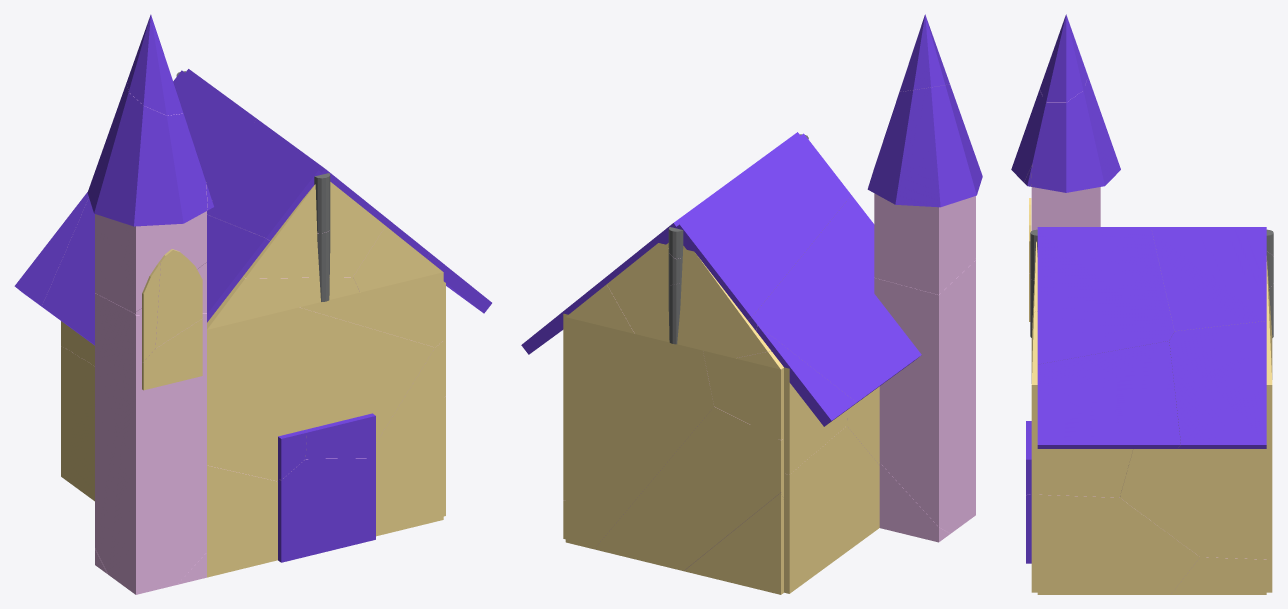
File: HouseB_Broken.fbx
3 views of the same model, side by side, from view 1: azimuth 30°, elevation 25°; view 2: azimuth 150°, elevation 25°; view 3: azimuth 270°, elevation 25° (orthographic). The views are drawn at different scales.
Visible parts, largest first — view 1: HouseB.008_cell.002, HouseB.013_cell, HouseB.018_cell, HouseB.011_cell, HouseB.013_cell.002, HouseB.021_cell.003, HouseB.018_cell.002, HouseB.019_cell.003, HouseB.013_cell.003, HouseB.008_cell.001, HouseB.013_cell.001, HouseB.015_cell.001 (+14 smaller); view 2: HouseB.016_cell.002, HouseB.008_cell.002, HouseB.018_cell.002, HouseB.016_cell.003, HouseB.018_cell, HouseB.015_cell.001, HouseB.011_cell, HouseB.020_cell.001, HouseB.008_cell.001, HouseB.016_cell.001, HouseB.016_cell, HouseB.015_cell (+8 smaller); view 3: HouseB.017_cell, HouseB.017_cell.003, HouseB.014_cell.001, HouseB.014_cell.003, HouseB.017_cell.002, HouseB.017_cell.001, HouseB.011_cell, HouseB.014_cell.002, HouseB.014_cell, HouseB.008_cell.001, HouseB.011_cell.002, HouseB.016_cell.002 (+7 smaller).
Boxes of the visible parts, x1=… form: HouseB.008_cell.002: x1=95, y1=293, x2=206, y2=594; HouseB.013_cell: x1=207, y1=307, x2=434, y2=481; HouseB.018_cell: x1=173, y1=70, x2=322, y2=240; HouseB.011_cell: x1=87, y1=82, x2=209, y2=226; HouseB.013_cell.002: x1=376, y1=341, x2=443, y2=536; HouseB.021_cell.003: x1=278, y1=458, x2=375, y2=562; HouseB.018_cell.002: x1=42, y1=198, x2=269, y2=345; HouseB.019_cell.003: x1=243, y1=182, x2=385, y2=278; HouseB.013_cell.003: x1=207, y1=465, x2=277, y2=577; HouseB.008_cell.001: x1=95, y1=211, x2=206, y2=313; HouseB.013_cell.001: x1=300, y1=272, x2=443, y2=347; HouseB.015_cell.001: x1=61, y1=346, x2=94, y2=501; HouseB.016_cell.002: x1=565, y1=317, x2=713, y2=549; HouseB.008_cell.002: x1=874, y1=260, x2=975, y2=533; HouseB.018_cell.002: x1=747, y1=195, x2=921, y2=406; HouseB.016_cell.003: x1=594, y1=406, x2=783, y2=570; HouseB.018_cell: x1=676, y1=133, x2=851, y2=319; HouseB.015_cell.001: x1=784, y1=426, x2=879, y2=593; HouseB.011_cell: x1=867, y1=84, x2=982, y2=207; HouseB.020_cell.001: x1=607, y1=243, x2=770, y2=358; HouseB.008_cell.001: x1=874, y1=193, x2=975, y2=294; HouseB.016_cell.001: x1=684, y1=493, x2=783, y2=594; HouseB.016_cell: x1=703, y1=350, x2=783, y2=439; HouseB.015_cell: x1=784, y1=367, x2=847, y2=474; HouseB.017_cell: x1=1037, y1=229, x2=1174, y2=364; HouseB.017_cell.003: x1=1037, y1=341, x2=1180, y2=448; HouseB.014_cell.001: x1=1119, y1=449, x2=1266, y2=559; HouseB.014_cell.003: x1=1037, y1=494, x2=1199, y2=594; HouseB.017_cell.002: x1=1169, y1=321, x2=1266, y2=448; HouseB.017_cell.001: x1=1151, y1=229, x2=1266, y2=331; HouseB.011_cell: x1=1011, y1=76, x2=1120, y2=192; HouseB.014_cell.002: x1=1037, y1=449, x2=1133, y2=497; HouseB.014_cell: x1=1171, y1=557, x2=1266, y2=594; HouseB.008_cell.001: x1=1031, y1=187, x2=1100, y2=230; HouseB.011_cell.002: x1=1039, y1=14, x2=1087, y2=102; HouseB.016_cell.002: x1=1266, y1=385, x2=1272, y2=592.
Size of the model in its own units: 6.44 by 9 by 4.59.
